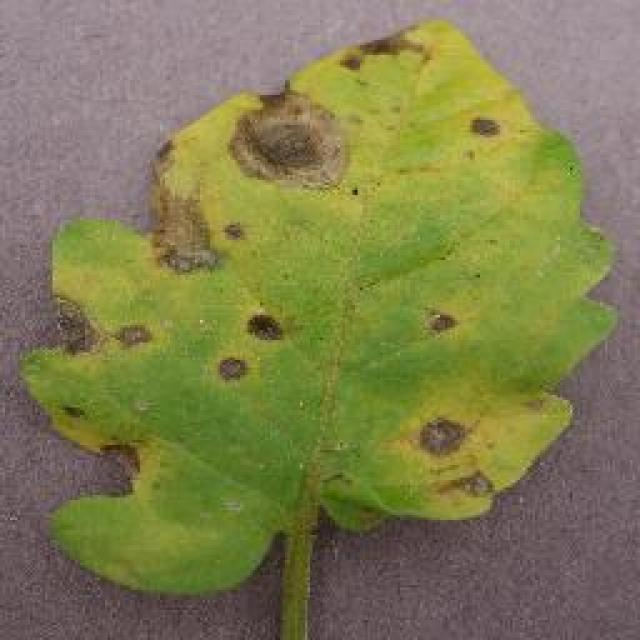Tomato target spot leaf: (22, 18, 618, 598)
